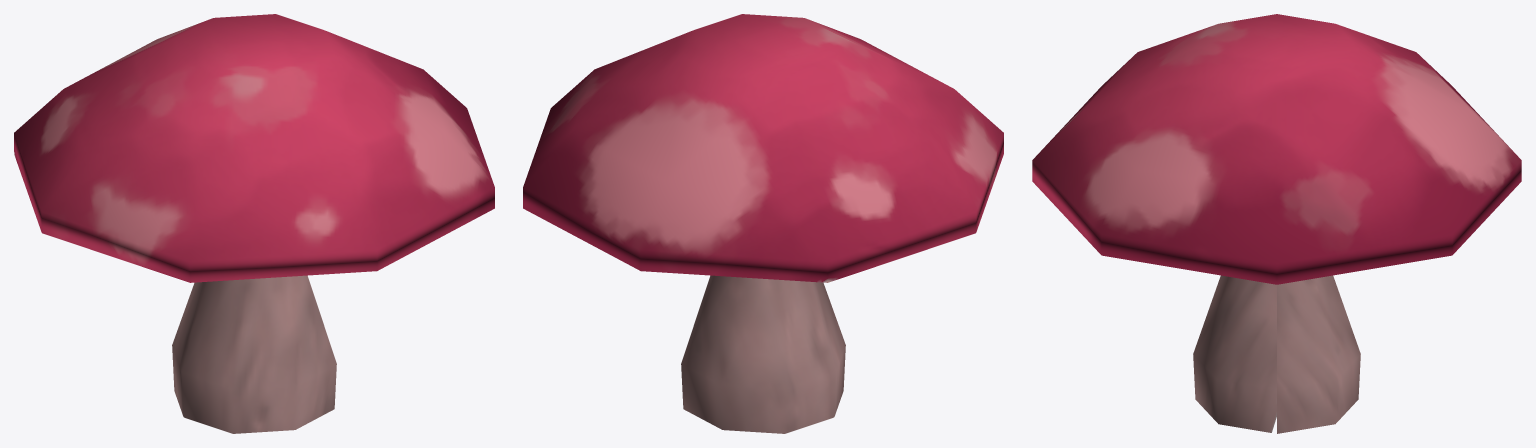
Rendered from PROP_Shroom_03_block.fbx.
3 renders of one model, left to right at view 1: azimuth 30°, elevation 25°; view 2: azimuth 150°, elevation 25°; view 3: azimuth 270°, elevation 25°, orthographic.
Visible parts, largest first — view 1: PROP_Shroom_03_block; view 2: PROP_Shroom_03_block; view 3: PROP_Shroom_03_block.
Part boxes in pixels (left/top/right/bottom): PROP_Shroom_03_block: left=14, top=14, right=494, bottom=433; PROP_Shroom_03_block: left=523, top=14, right=1003, bottom=433; PROP_Shroom_03_block: left=1032, top=14, right=1521, bottom=433.
Bounding box in the file's own units: 68.91 × 54.54 × 68.91.
1 material, 1 textured.
